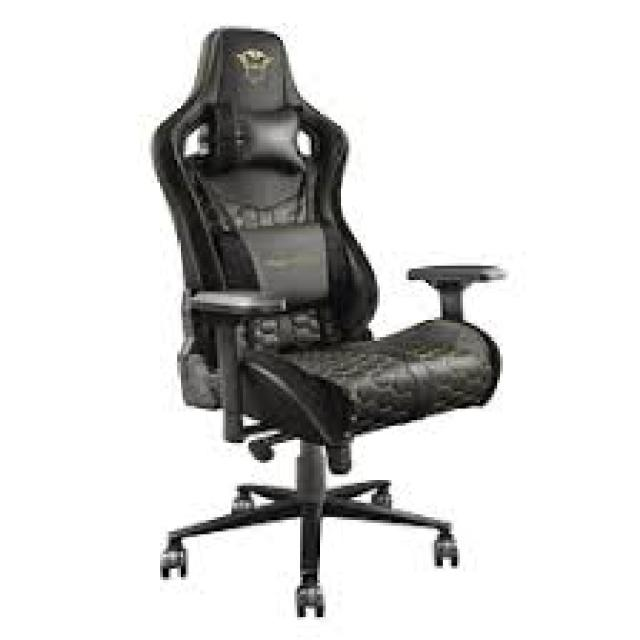bottle: (150, 24, 505, 620)
